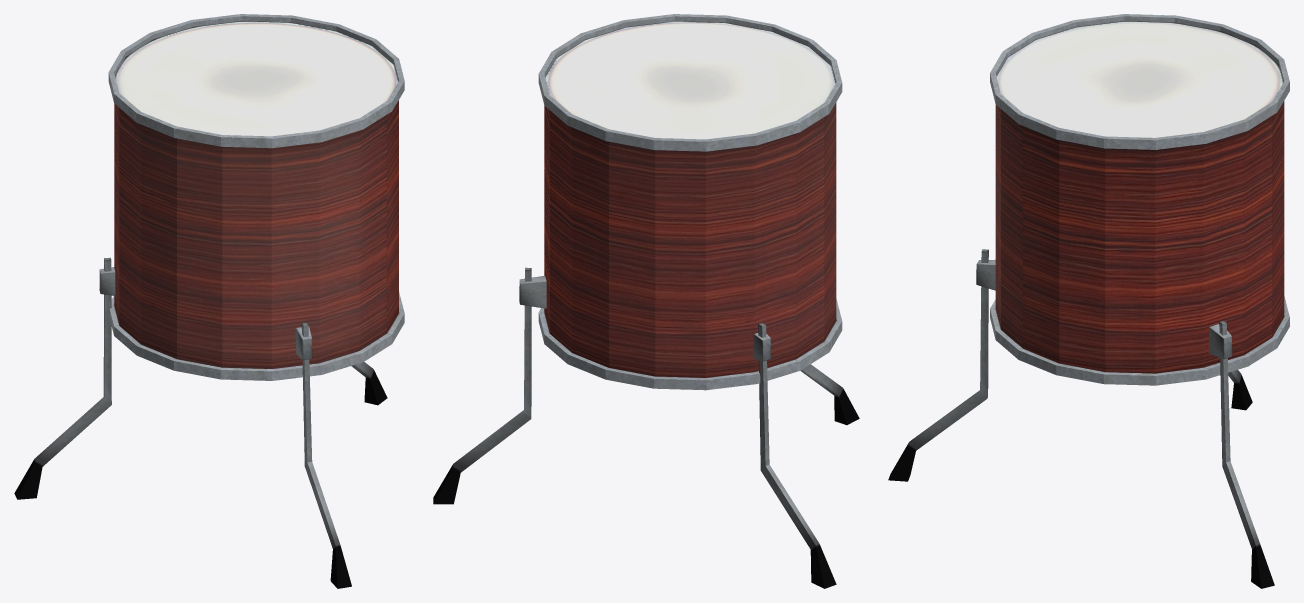
File: ARC0810077.fbx
3 views of the same model, side by side, from view 1: azimuth 30°, elevation 25°; view 2: azimuth 150°, elevation 25°; view 3: azimuth 270°, elevation 25° (orthographic). The views are drawn at different scales.
Visible parts, largest first — view 1: smARC0810077; view 2: smARC0810077; view 3: smARC0810077.
Part boxes in pixels (x1,y1,x2,y2): smARC0810077: [14, 14, 404, 588]; smARC0810077: [433, 14, 859, 588]; smARC0810077: [888, 14, 1289, 588].
Bounding box in the file's own units: 75.75 × 78.11 × 68.11.
Materials: 1 (1 with a texture image).
